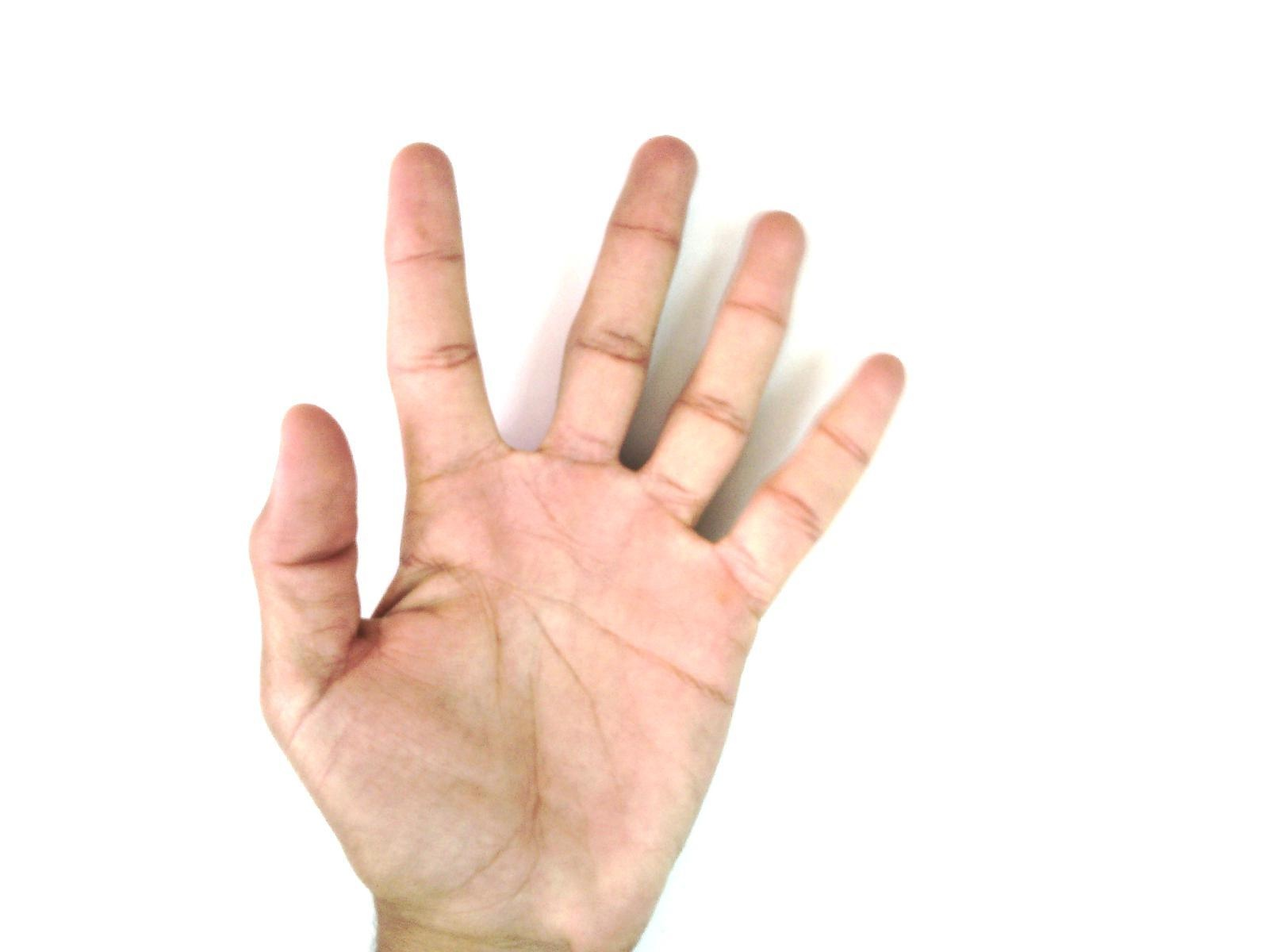open_palm: (246, 133, 909, 950)
